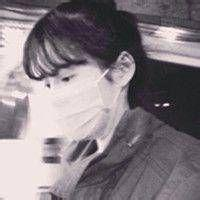OK: (32, 56, 113, 137)
